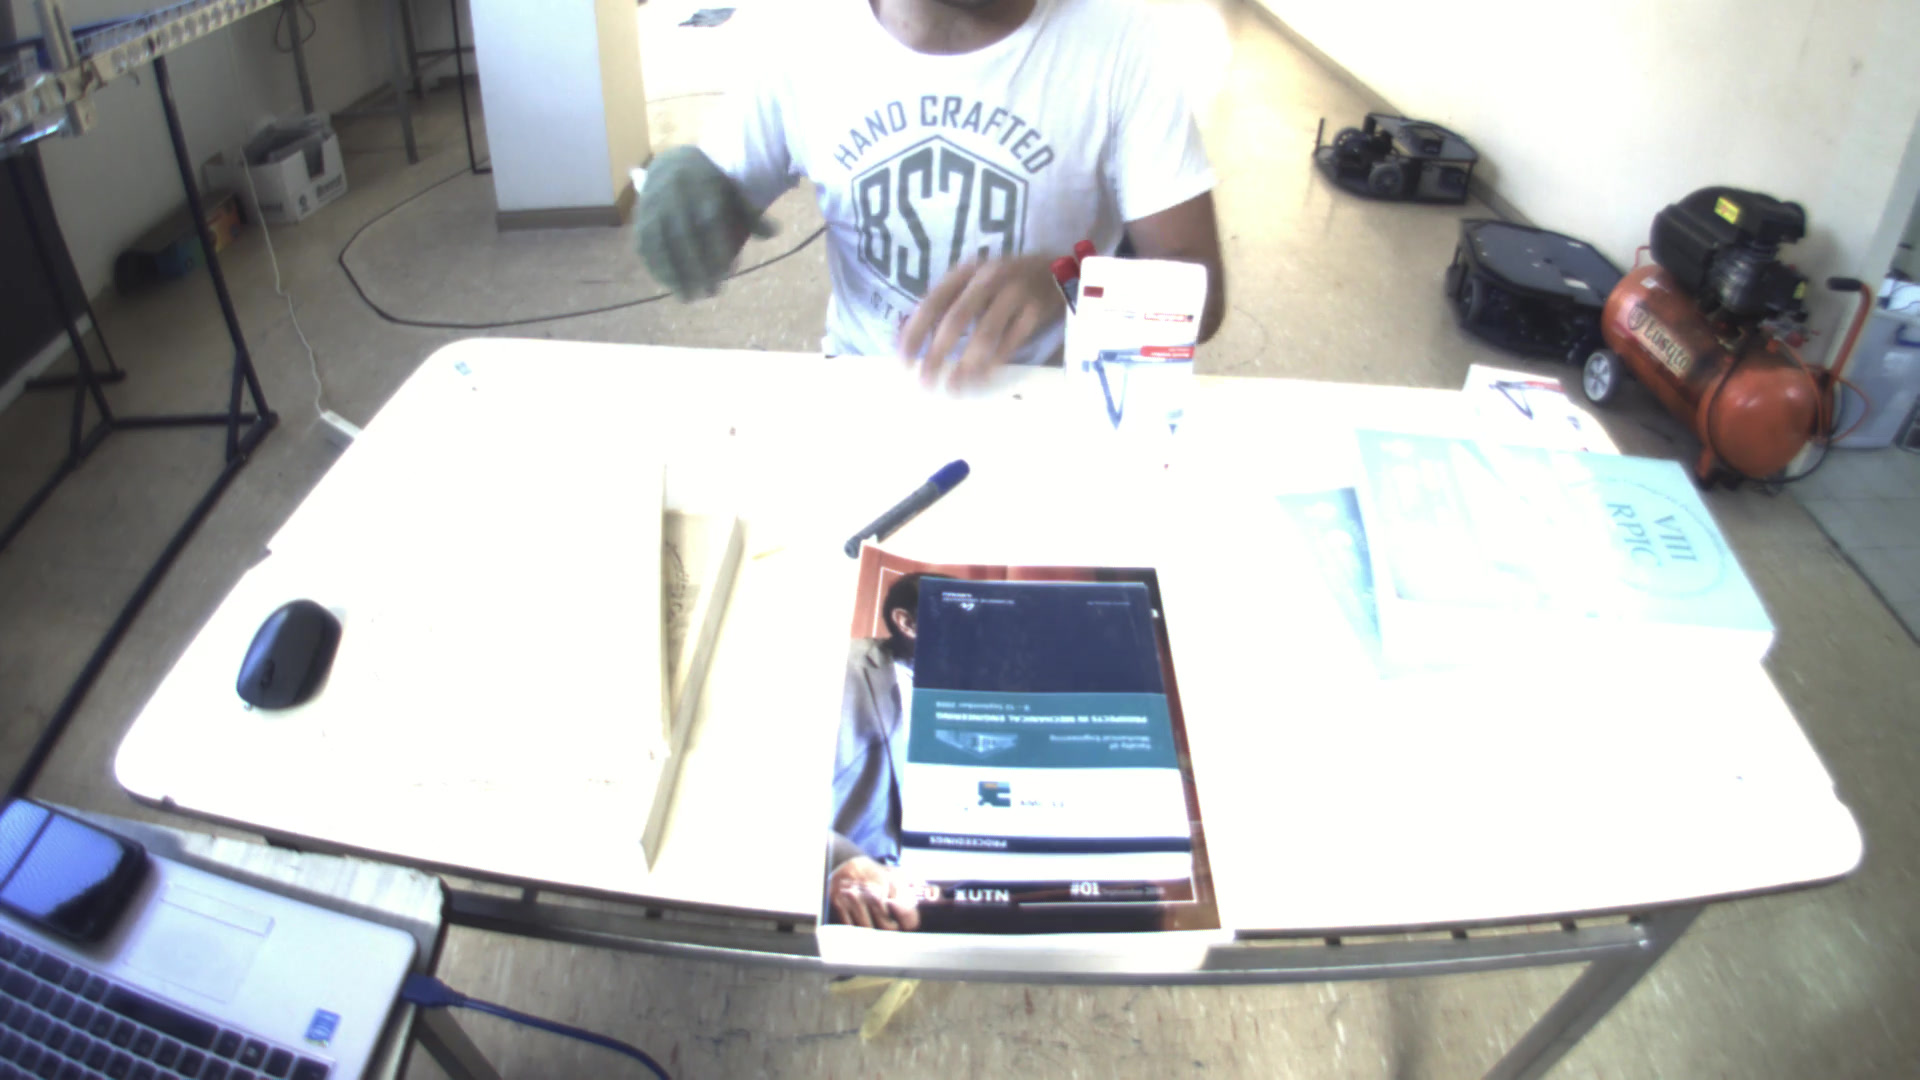hand: (887, 233, 1091, 392), (618, 142, 767, 301)
